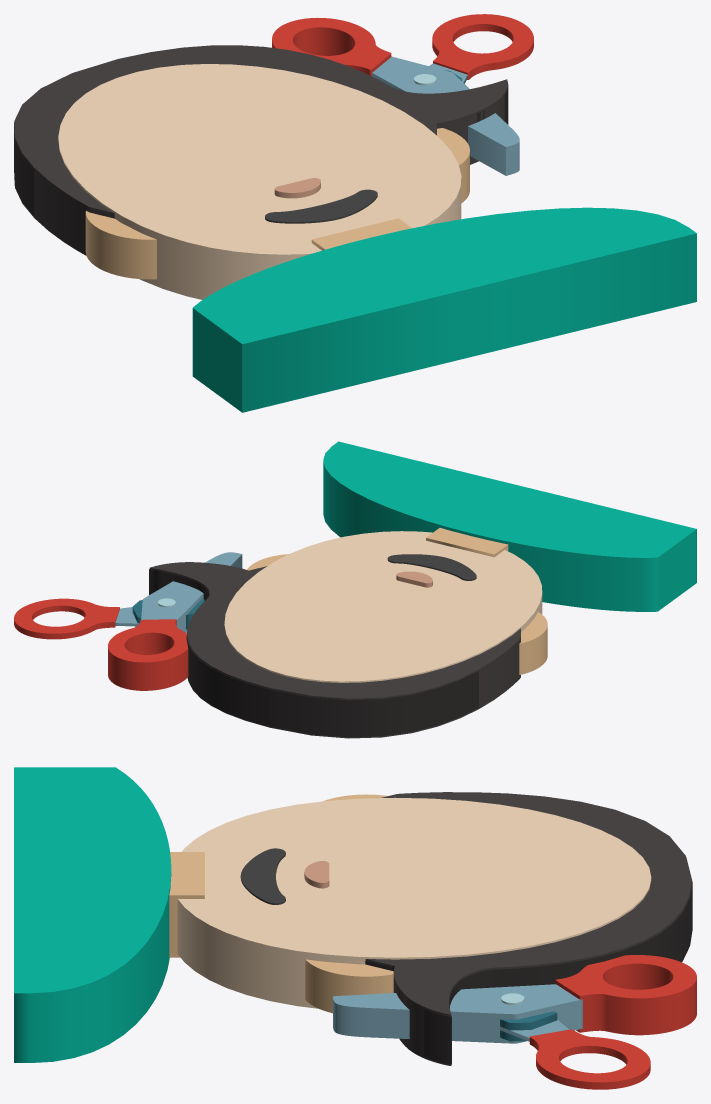
Rendered from emoji_u1f487_1f3fb_200d_2642.glb.
The picture shows the model from 3 angles, top to bottom: view 1: azimuth 30°, elevation 25°; view 2: azimuth 150°, elevation 25°; view 3: azimuth 270°, elevation 25°; orthographic projection. The views are drawn at different scales.
Parts seen in each view (by area): view 1: emoji_u1f487_1f3fb_200d_2642; view 2: emoji_u1f487_1f3fb_200d_2642; view 3: emoji_u1f487_1f3fb_200d_2642.
Boxes of the visible parts, <box> form: emoji_u1f487_1f3fb_200d_2642: <box>14,14,696,412</box>; emoji_u1f487_1f3fb_200d_2642: <box>14,441,696,738</box>; emoji_u1f487_1f3fb_200d_2642: <box>14,767,696,1089</box>.
Bounding box in the file's own units: 0.0331 × 0.0038 × 0.0337.
